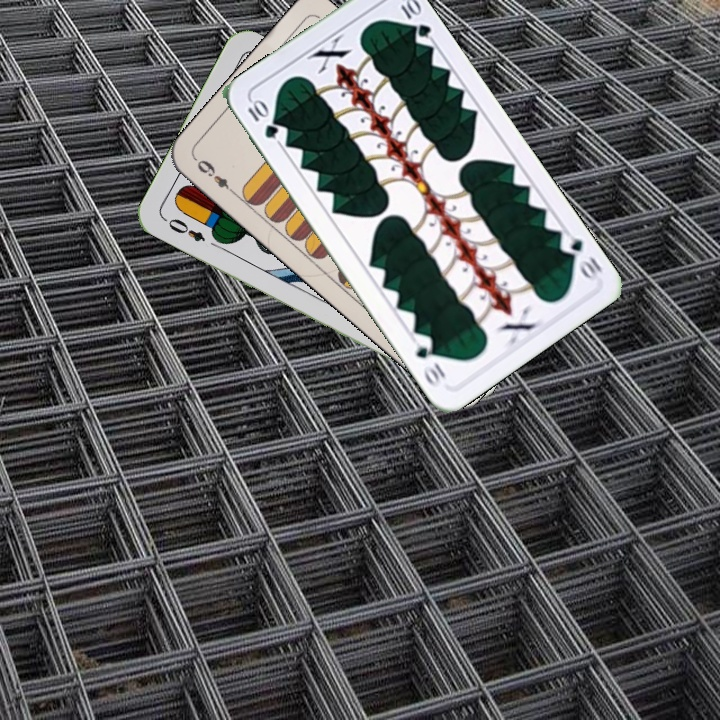E9: (191, 154, 239, 198)
EO: (159, 214, 208, 244)
G10: (555, 228, 605, 284), (243, 95, 281, 142)
